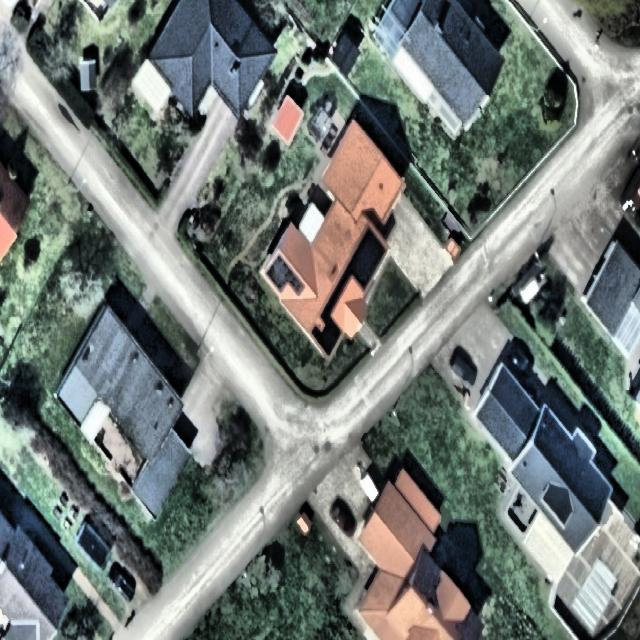roof_pv: (348, 227, 388, 293), (260, 252, 305, 308), (322, 265, 355, 315), (309, 313, 343, 359)
